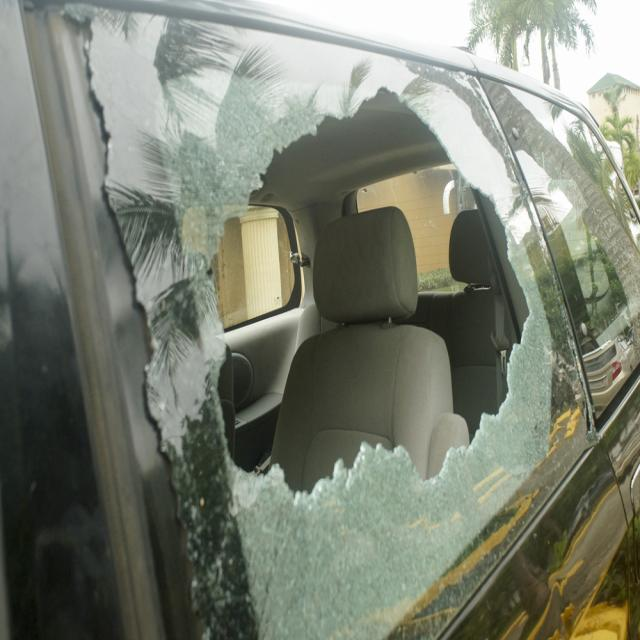glass shatter: (57, 2, 595, 640)
